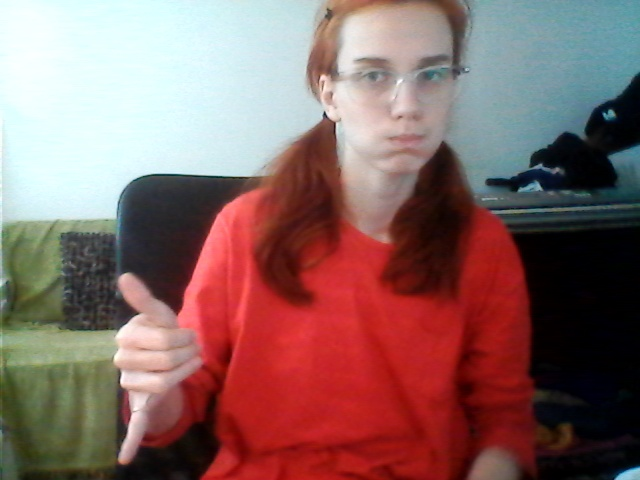ano: (101, 270, 208, 469)
